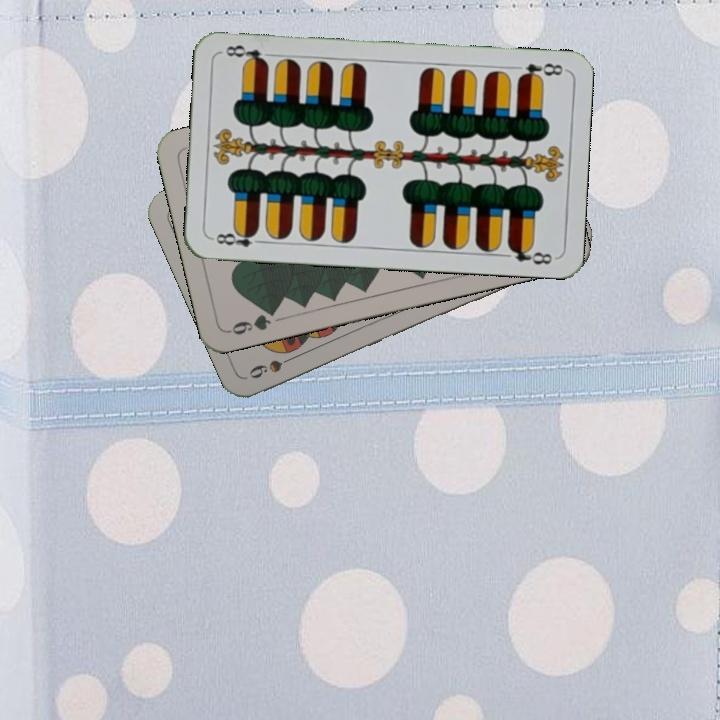E8: (208, 226, 267, 249), (514, 59, 566, 83)
G9: (224, 304, 280, 338)
S9: (244, 350, 302, 382)
